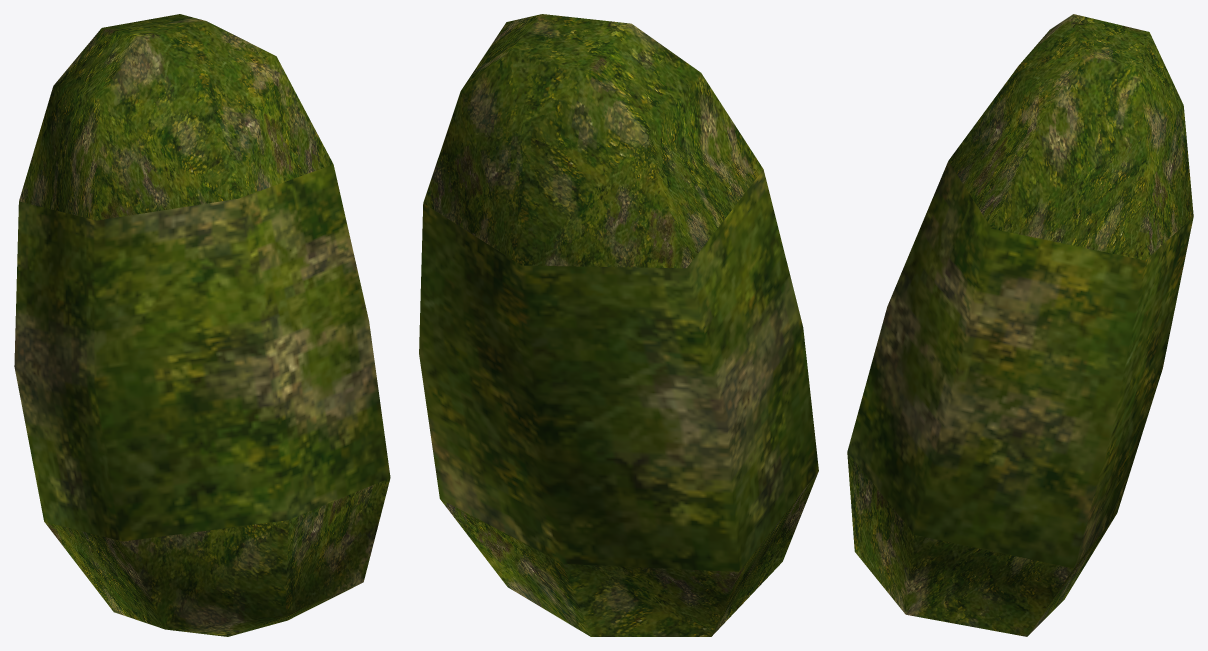
The model's file is OVERHILL_A_01_ROCK_BRIDGE03.fbx.
The picture shows the model from 3 angles, left to right: view 1: azimuth 30°, elevation 25°; view 2: azimuth 150°, elevation 25°; view 3: azimuth 270°, elevation 25°; orthographic projection. The views are drawn at different scales.
Parts seen in each view (by area): view 1: OVERHILL_A_01_ROCK_BRIDGE03; view 2: OVERHILL_A_01_ROCK_BRIDGE03; view 3: OVERHILL_A_01_ROCK_BRIDGE03.
Part boxes in pixels (x1,y1,x2,y2): OVERHILL_A_01_ROCK_BRIDGE03: (14,14,390,636); OVERHILL_A_01_ROCK_BRIDGE03: (419,14,818,636); OVERHILL_A_01_ROCK_BRIDGE03: (847,14,1193,636).
Size of the model in its own units: 13647 by 26438 by 14420.
1 material, 1 textured.
